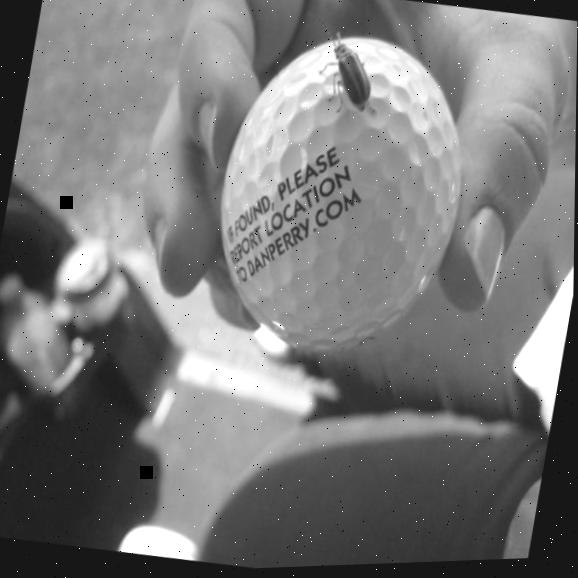GolfBall: (175, 0, 497, 424)
